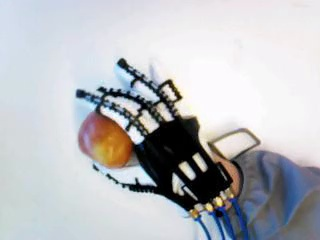apple: (77, 110, 132, 166)
hand: (75, 58, 234, 218)
